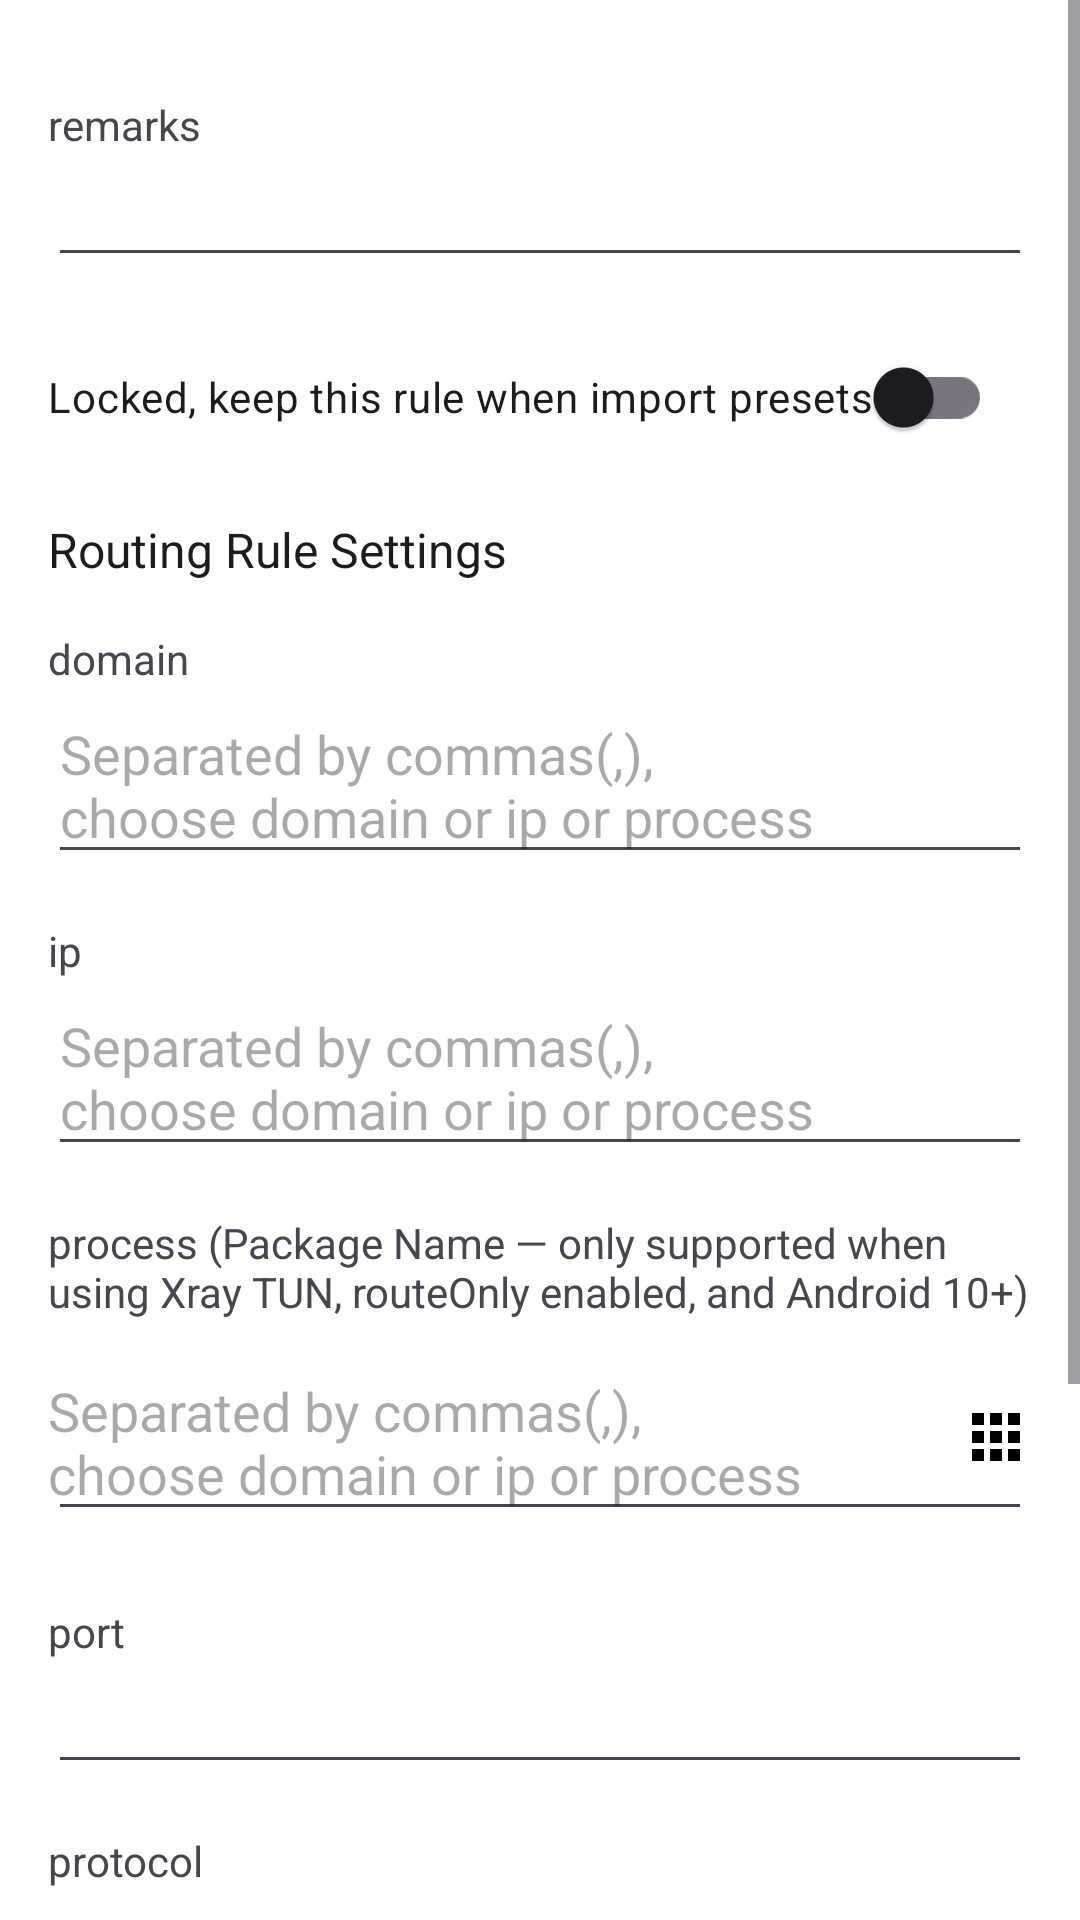

Point at icon controls on the screen. Image size 1080px×1920px, points as (x=x, y=y).
per apps: (x=996, y=1437)
